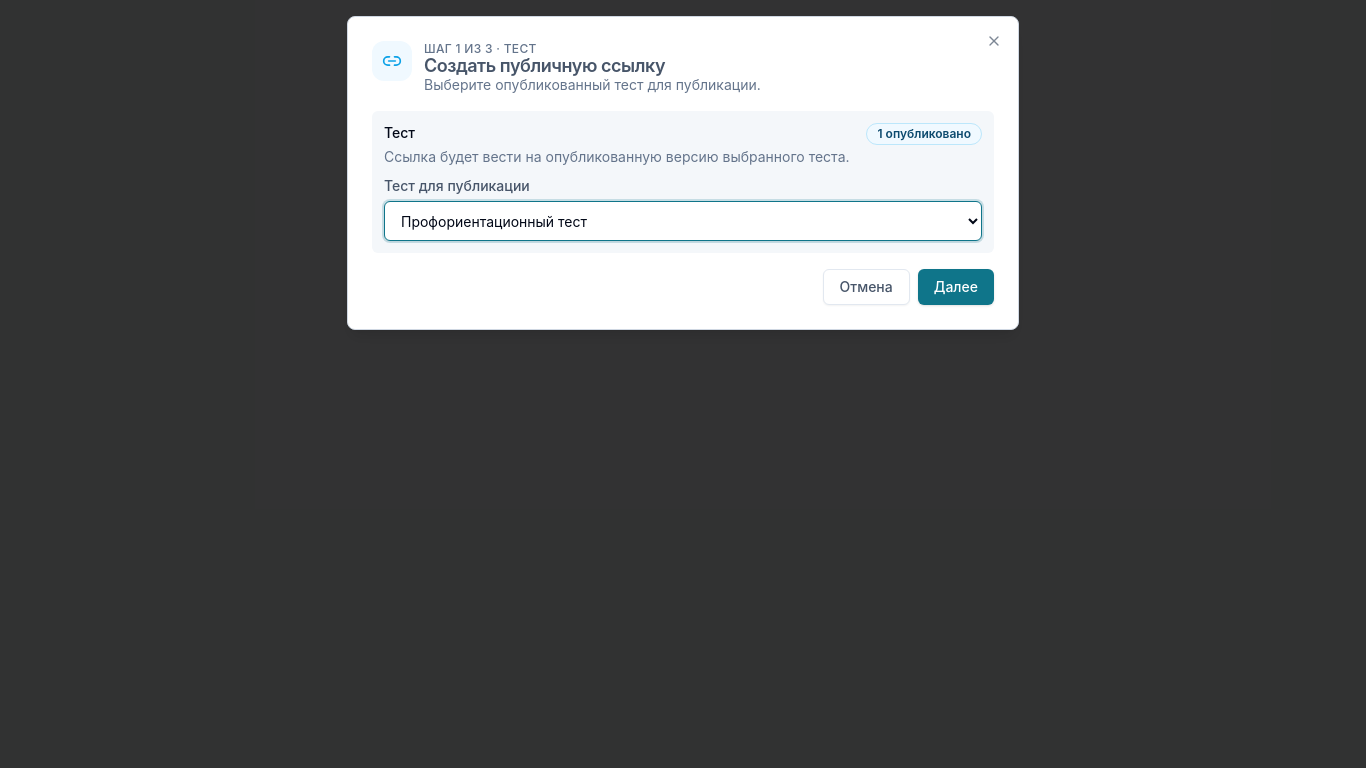
PublicLinkCreateDialog › keeps typed values when the operator steps back and forth
The width and height of the screenshot is (1366, 768).
Step 1. Click the button "Далее" → (956, 287), box left=918, top=269, right=994, bottom=305
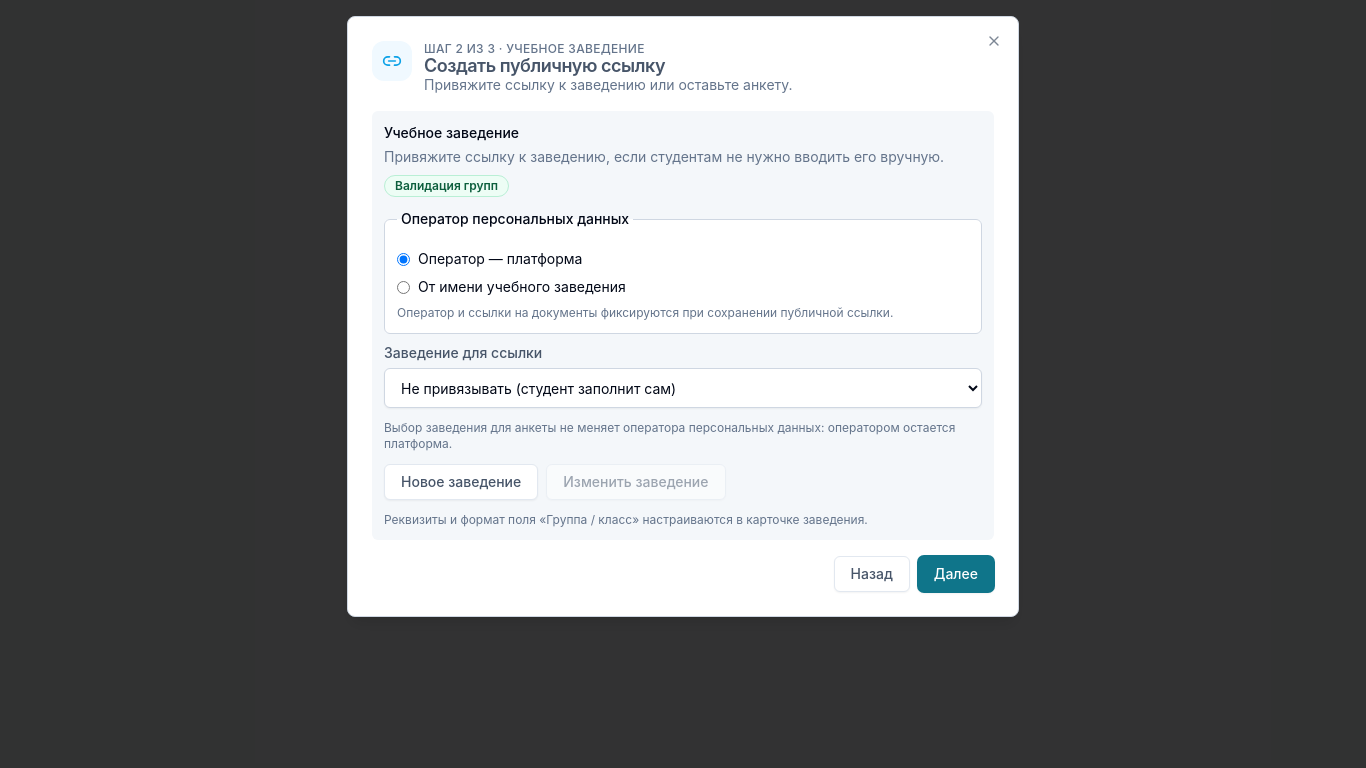
Step 2. Click the radio button labelled "От имени учебного заведения" → (404, 287), box left=397, top=280, right=410, bottom=294
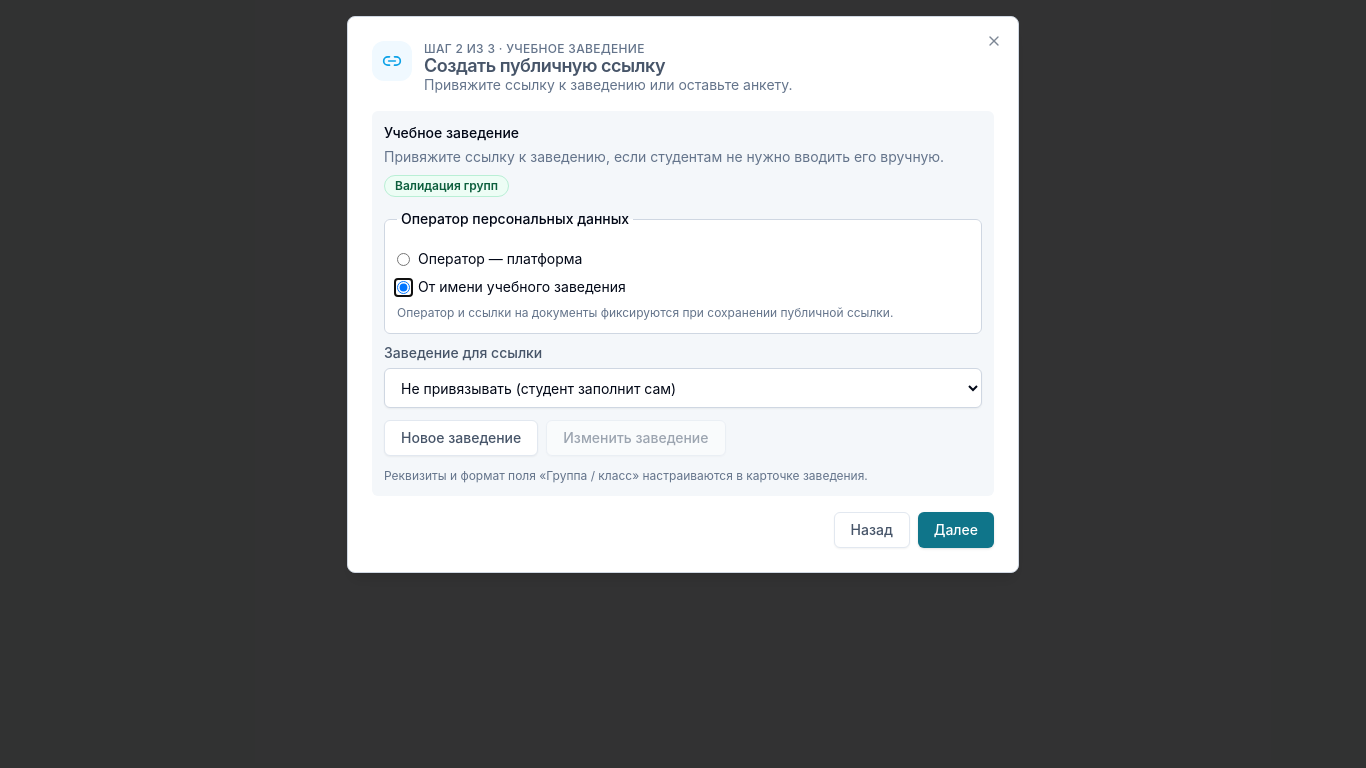
Step 3. Click the button "Далее" → (956, 530), box left=918, top=512, right=994, bottom=548
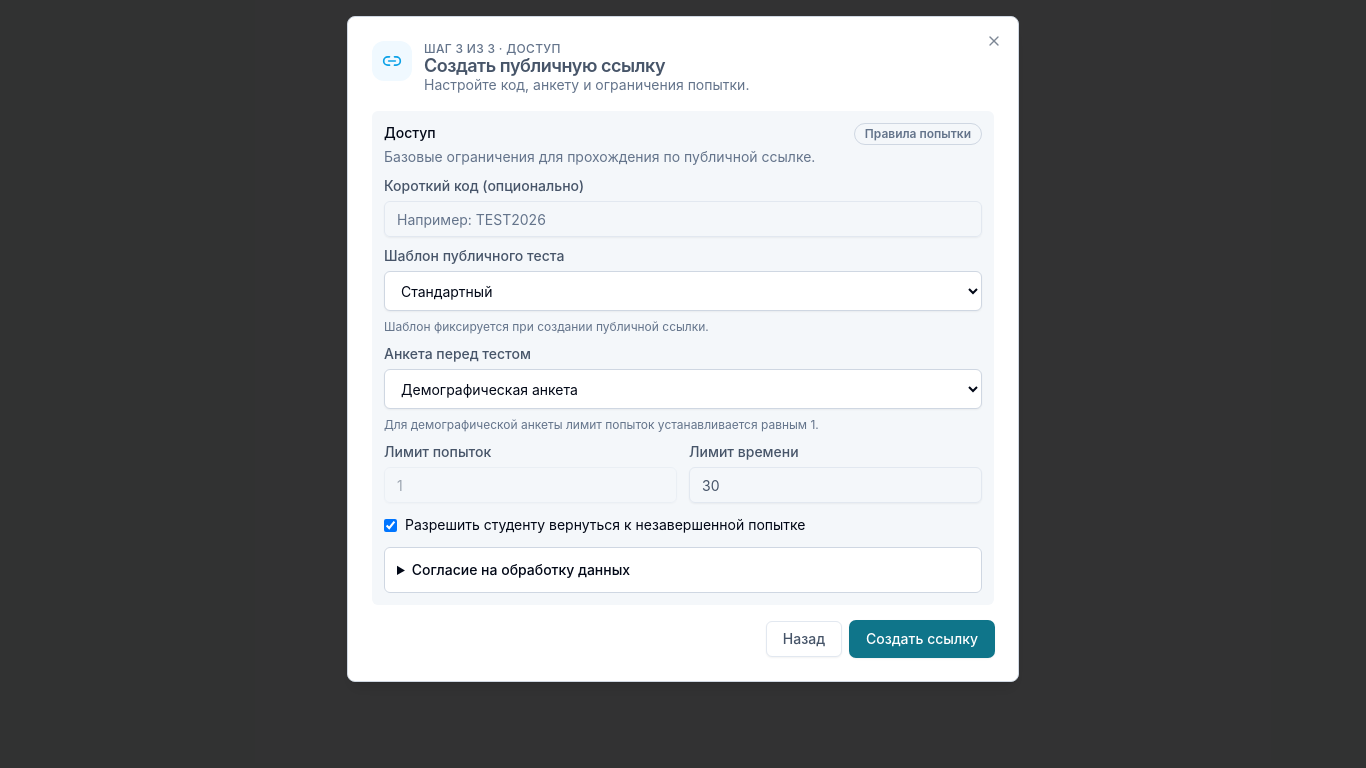
Step 4. Type "keep" into the field labelled "Короткий код (опционально)" → (683, 219), box left=384, top=201, right=982, bottom=237
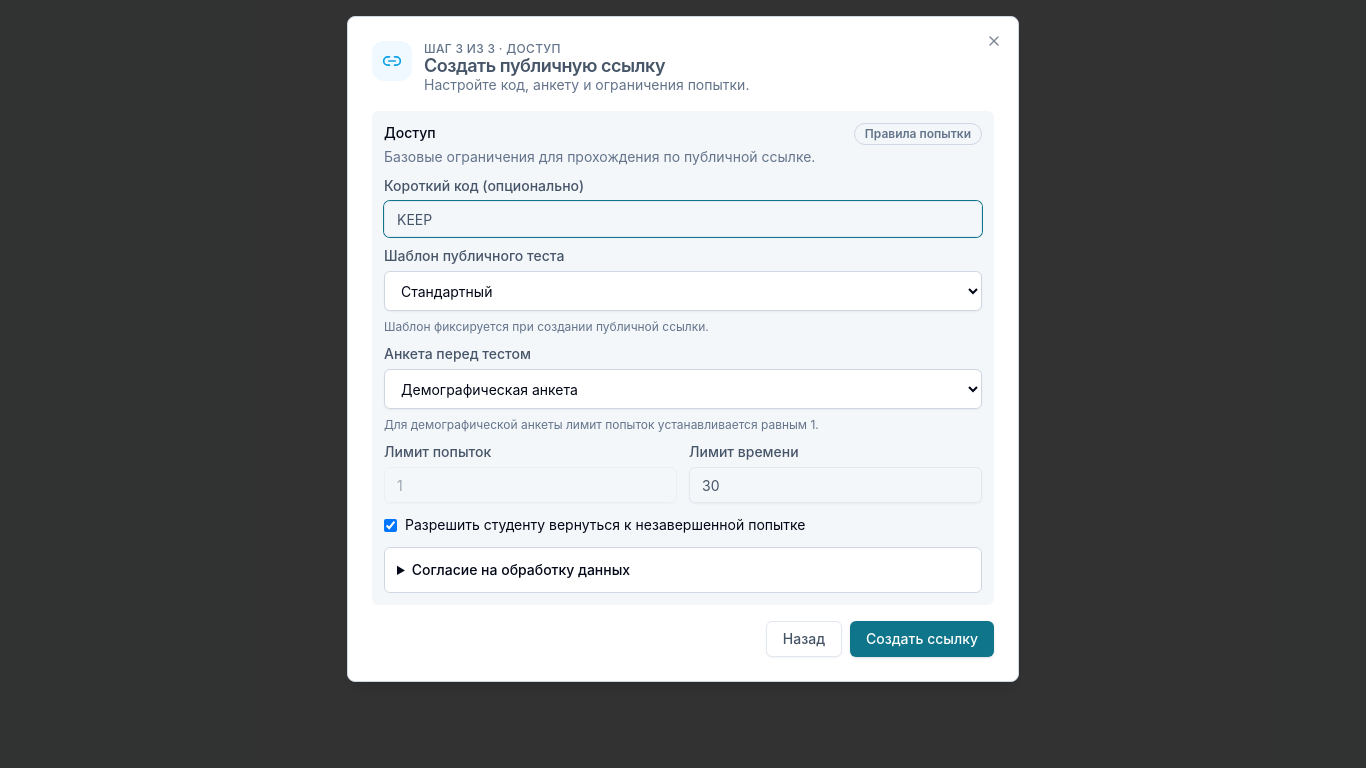
Step 5. Click the button "Назад" → (804, 639), box left=766, top=621, right=842, bottom=657
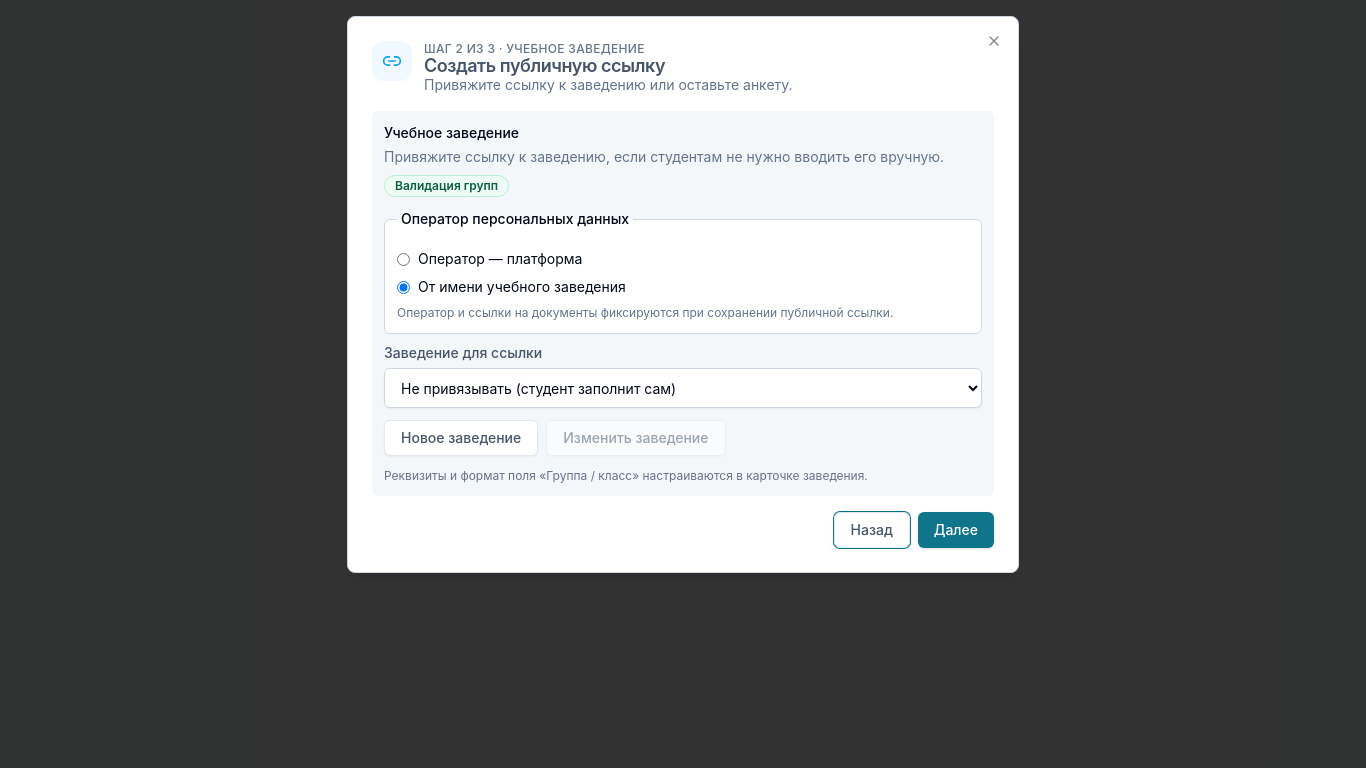
Result: the radio button labelled "От имени учебного заведения" is checked at left=397, top=280, right=410, bottom=294
Step 6. Click the button "Далее" → (956, 530), box left=918, top=512, right=994, bottom=548
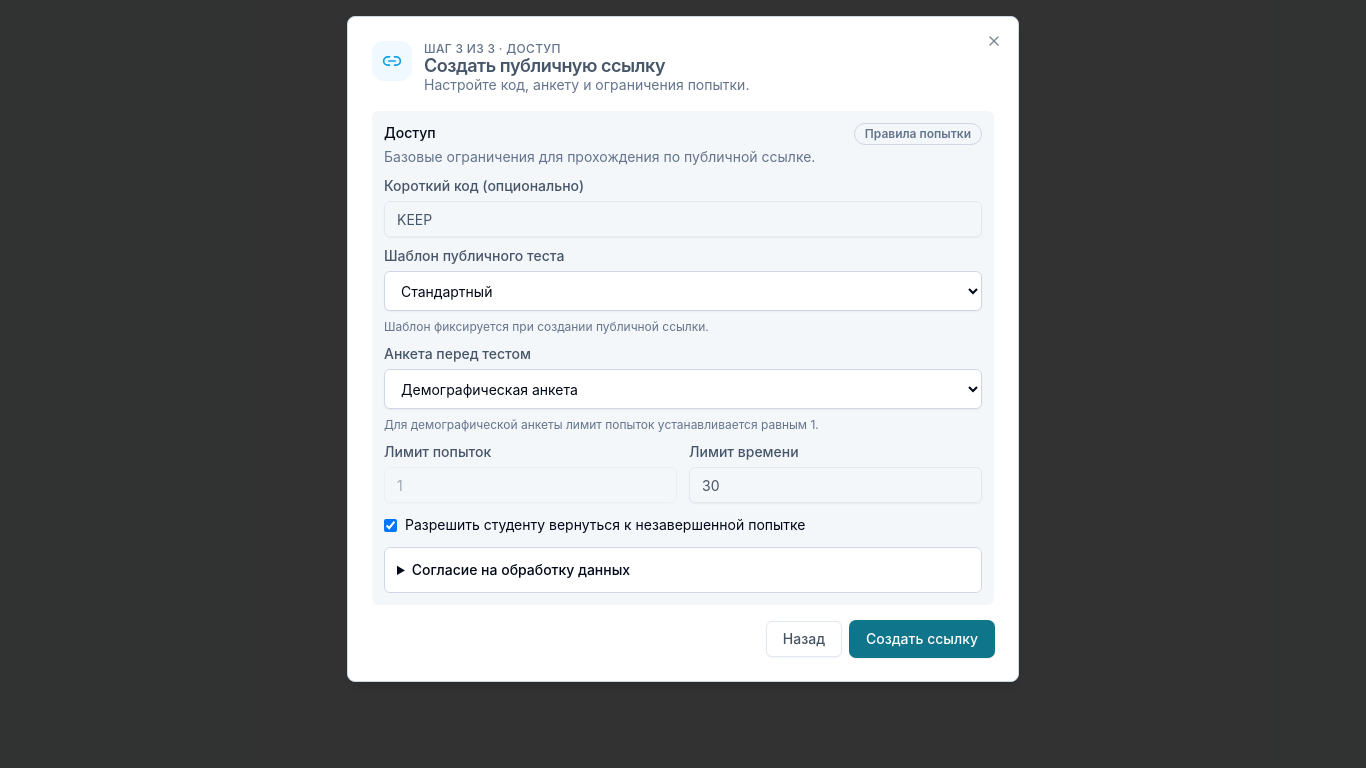
Result: the field labelled "Короткий код (опционально)" holds "KEEP" at left=384, top=201, right=982, bottom=237
